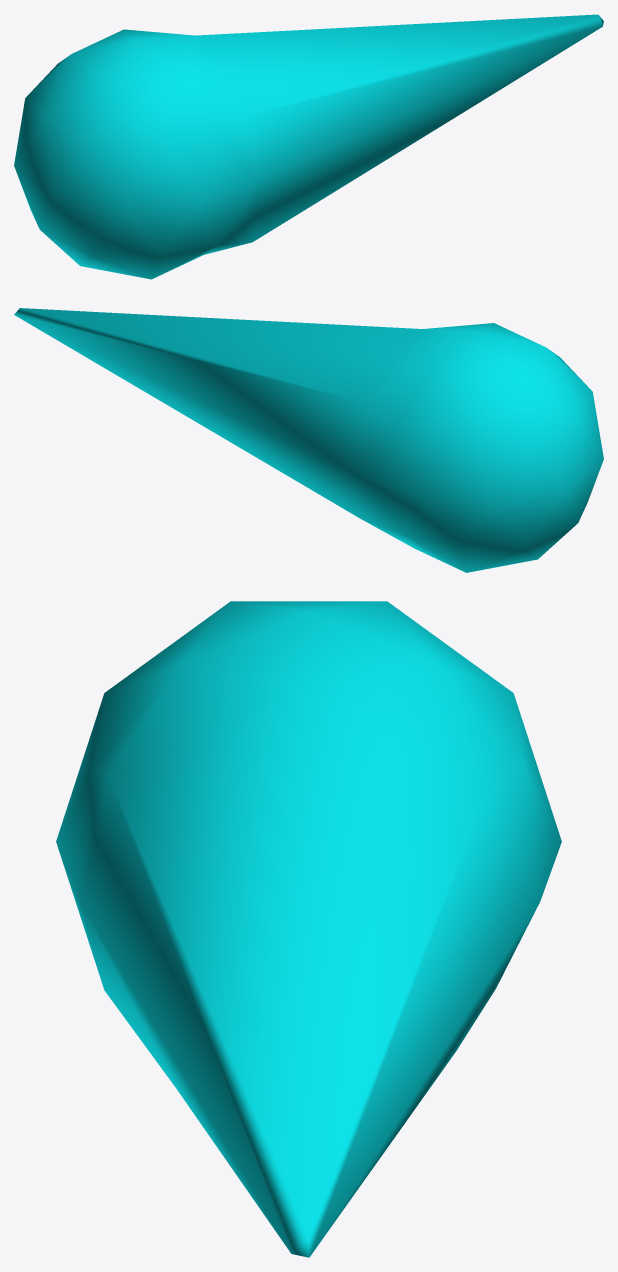
File: SKILLfireballo.fbx
3 views of the same model, one above another, from view 1: azimuth 30°, elevation 25°; view 2: azimuth 150°, elevation 25°; view 3: azimuth 270°, elevation 25° (orthographic). The views are drawn at different scales.
Visible parts, largest first — view 1: fireballs.001; view 2: fireballs.001; view 3: fireballs.001.
Part boxes in pixels (x1=…): fireballs.001: x1=14, y1=14, x2=603, y2=279; fireballs.001: x1=14, y1=308, x2=603, y2=572; fireballs.001: x1=56, y1=601, x2=561, y2=1257.
Size of the model in its own units: 188 by 72.16 by 72.16.
